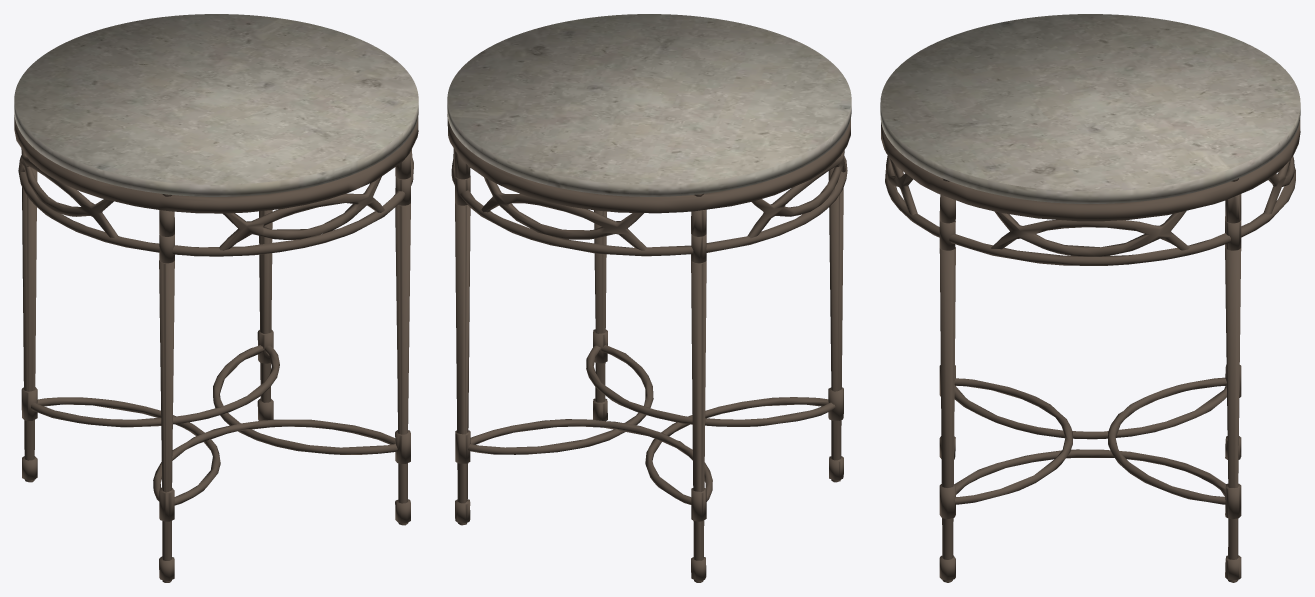
File: sidetable.glb
3 renders of one model, left to right at view 1: azimuth 30°, elevation 25°; view 2: azimuth 150°, elevation 25°; view 3: azimuth 270°, elevation 25°, orthographic. The views are drawn at different scales.
Visible parts, largest first — view 1: Object_3, Object_0; view 2: Object_3, Object_0; view 3: Object_3, Object_0.
Boxes of the visible parts, x1=… form: Object_3: x1=14, y1=14, x2=418, y2=196; Object_0: x1=14, y1=115, x2=418, y2=582; Object_3: x1=447, y1=14, x2=851, y2=196; Object_0: x1=447, y1=114, x2=850, y2=582; Object_3: x1=880, y1=14, x2=1300, y2=203; Object_0: x1=881, y1=120, x2=1300, y2=582.
Size of the model in its own units: 50.88 by 55.94 by 50.88.
2 materials, 1 textured.
